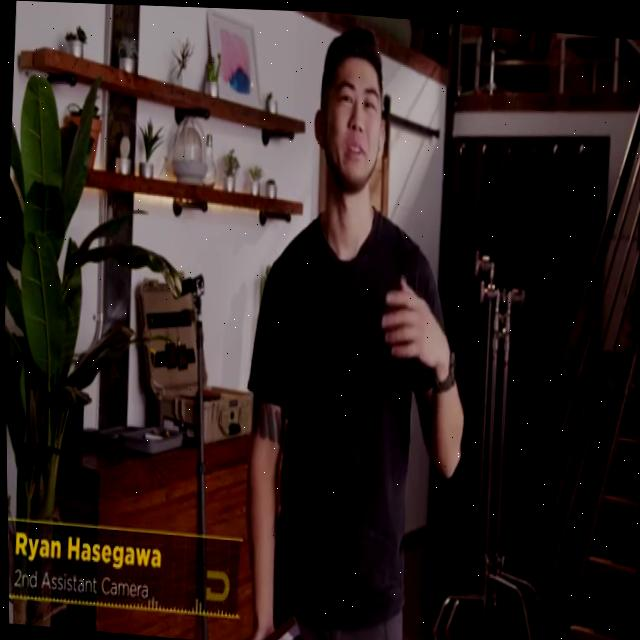Clapperboard: (263, 615, 302, 640)
